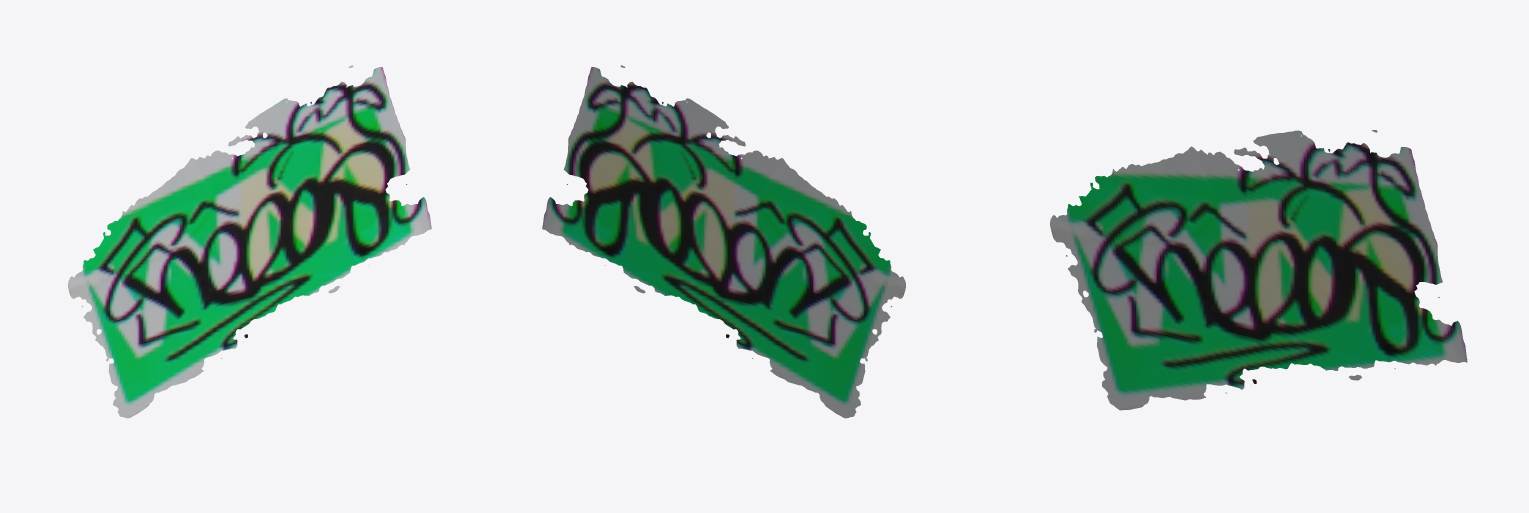
The model's file is Sticker_8.fbx.
3 views of the same model, side by side, from view 1: azimuth 30°, elevation 25°; view 2: azimuth 150°, elevation 25°; view 3: azimuth 330°, elevation 25° (orthographic). The views are drawn at different scales.
Parts seen in each view (by area): view 1: Sticker_8; view 2: Sticker_8; view 3: Sticker_8.
Part boxes in pixels (x1,y1,x2,y2): Sticker_8: (68,65,431,418); Sticker_8: (542,65,905,418); Sticker_8: (1050,130,1467,410).
Bounding box in the file's own units: 0.3284 × 0.2714 × 1.19e-08.
